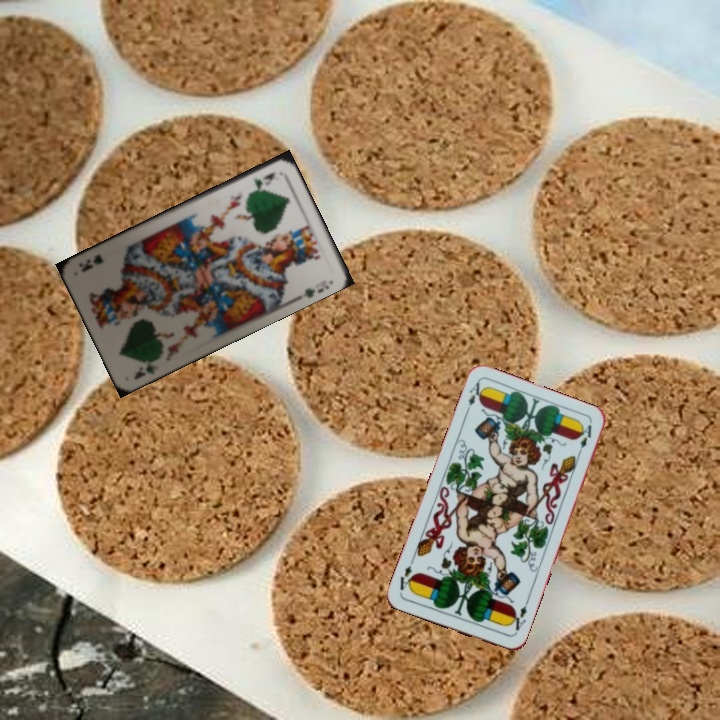EA: (506, 597, 531, 637), (464, 378, 487, 408)
GK: (130, 352, 162, 382), (249, 168, 279, 191)
